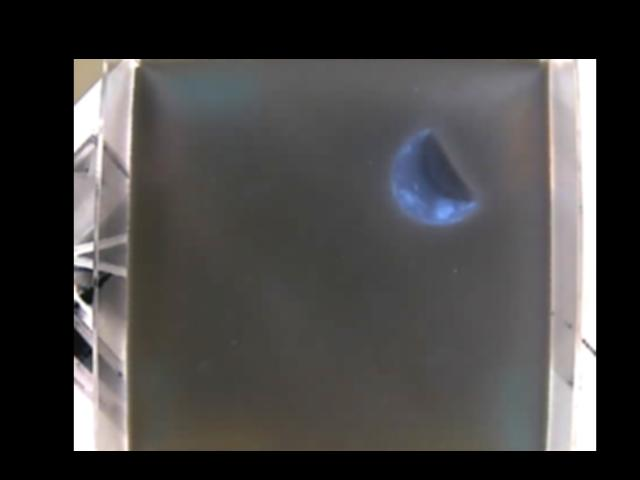Mooli: (392, 126, 477, 224)
